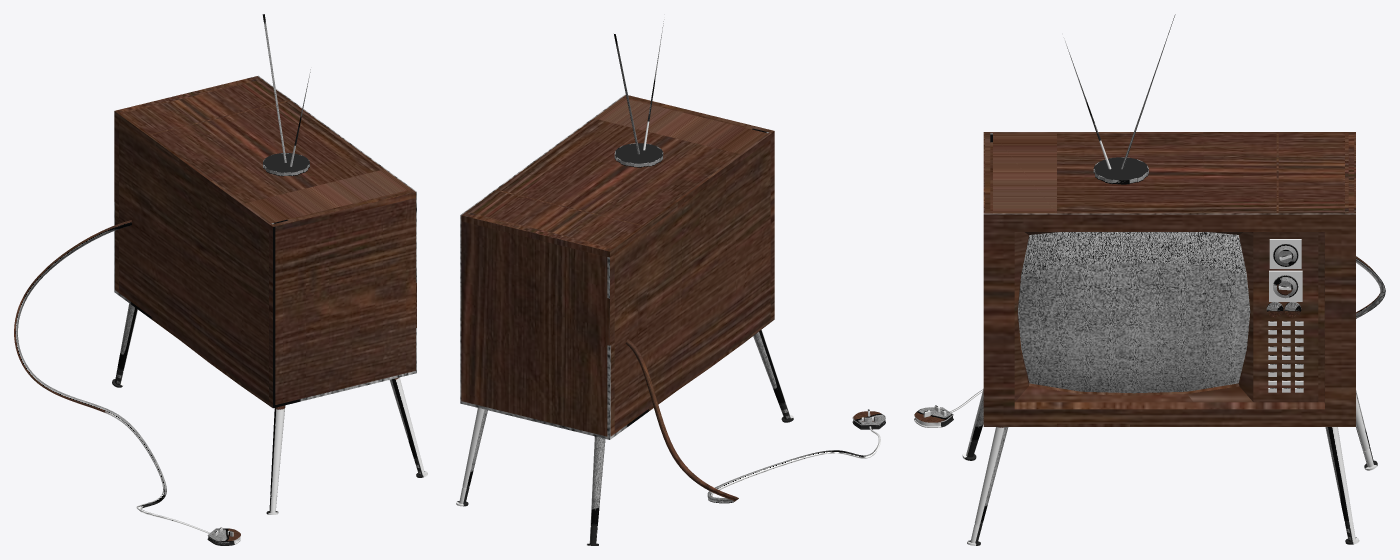
3 views of the same model, side by side, from view 1: azimuth 30°, elevation 25°; view 2: azimuth 150°, elevation 25°; view 3: azimuth 270°, elevation 25° (orthographic). The views are drawn at different scales.
Parts seen in each view (by area): view 1: TV01; view 2: TV01; view 3: TV01.
Boxes of the visible parts, box(x1,y1,x2,y2) form: TV01: box(14, 14, 427, 545); TV01: box(456, 19, 885, 545); TV01: box(914, 14, 1385, 545).
Size of the model in its own units: 5.94 by 8.94 by 7.79.
Materials: 1 (1 with a texture image).
